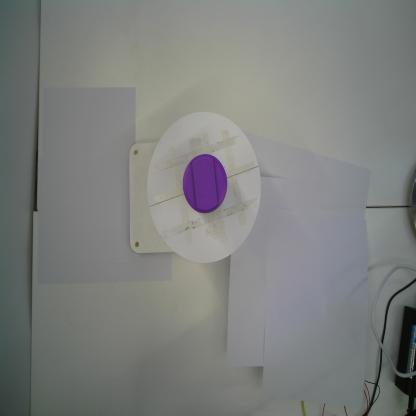Canned Food: (183, 153, 228, 214)
